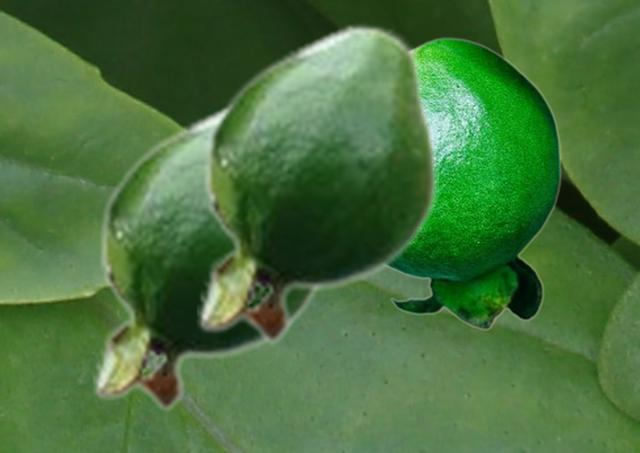guava: (197, 22, 437, 346), (93, 98, 324, 413), (388, 37, 561, 329)
